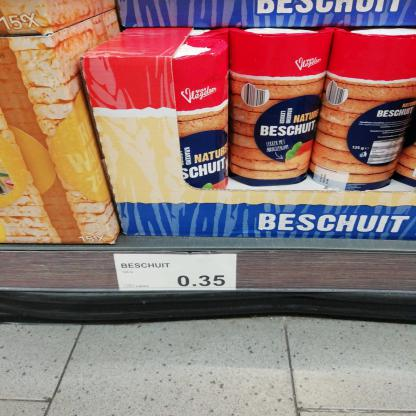prtg: (114, 255, 238, 292)
